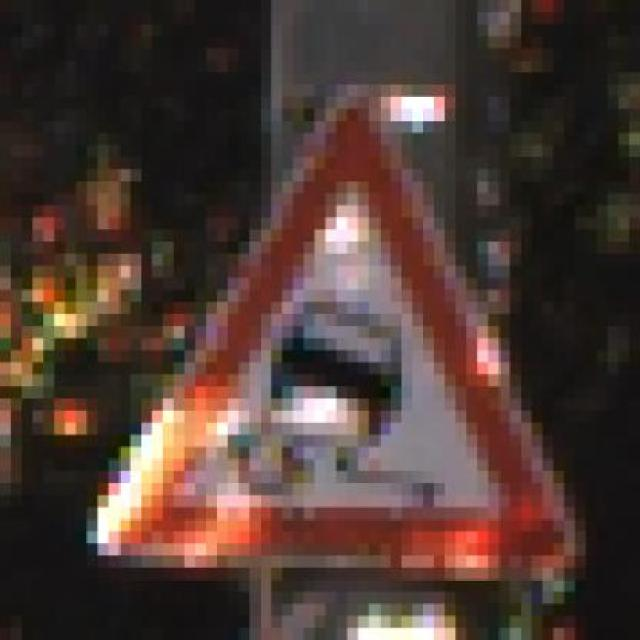Slippery Road Ahead: (86, 60, 586, 580)
